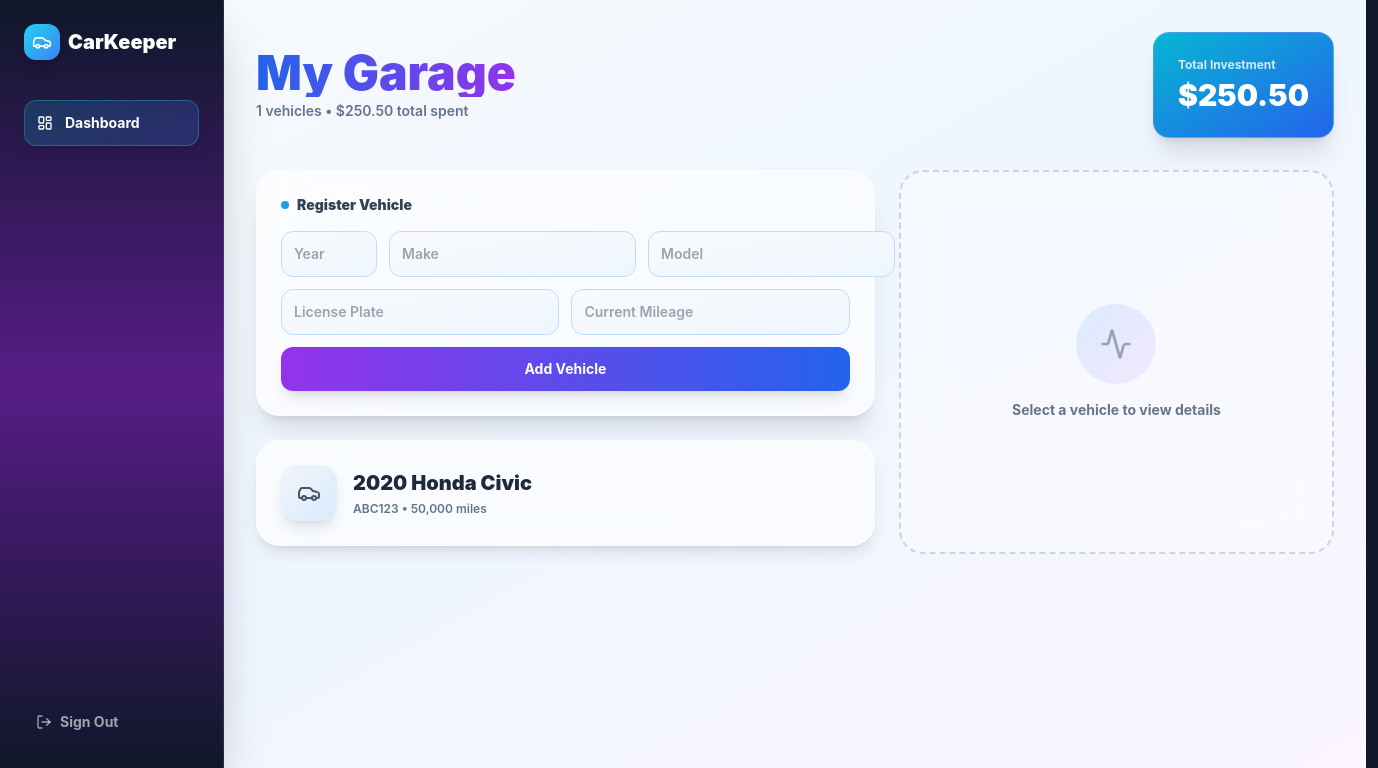
service records › loads history when a vehicle is selected
This screenshot has width=1378, height=768.
Step 1. Click the heading "2020 Honda Civic" → (443, 483), box left=353, top=469, right=532, bottom=497
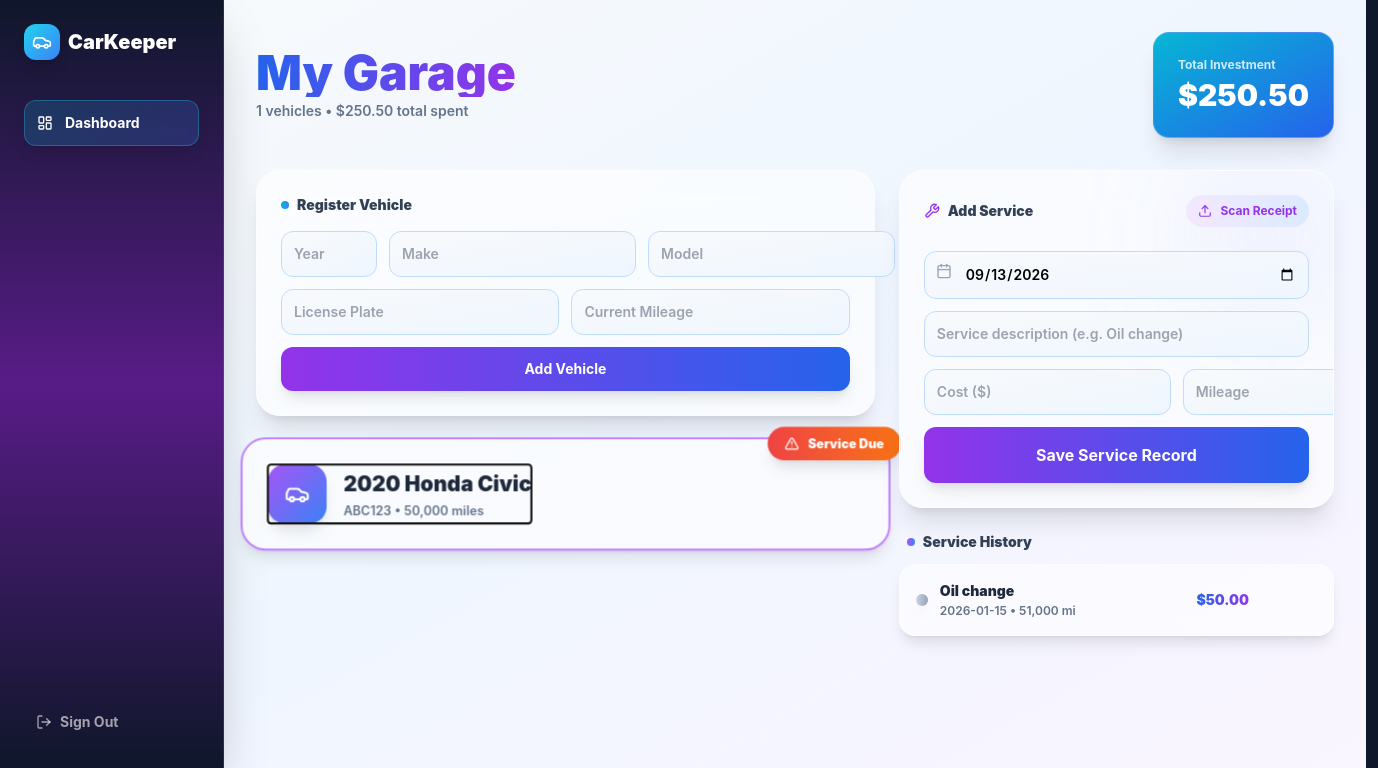
Check: the text "Oil change" is shown, box left=940, top=581, right=1014, bottom=601
